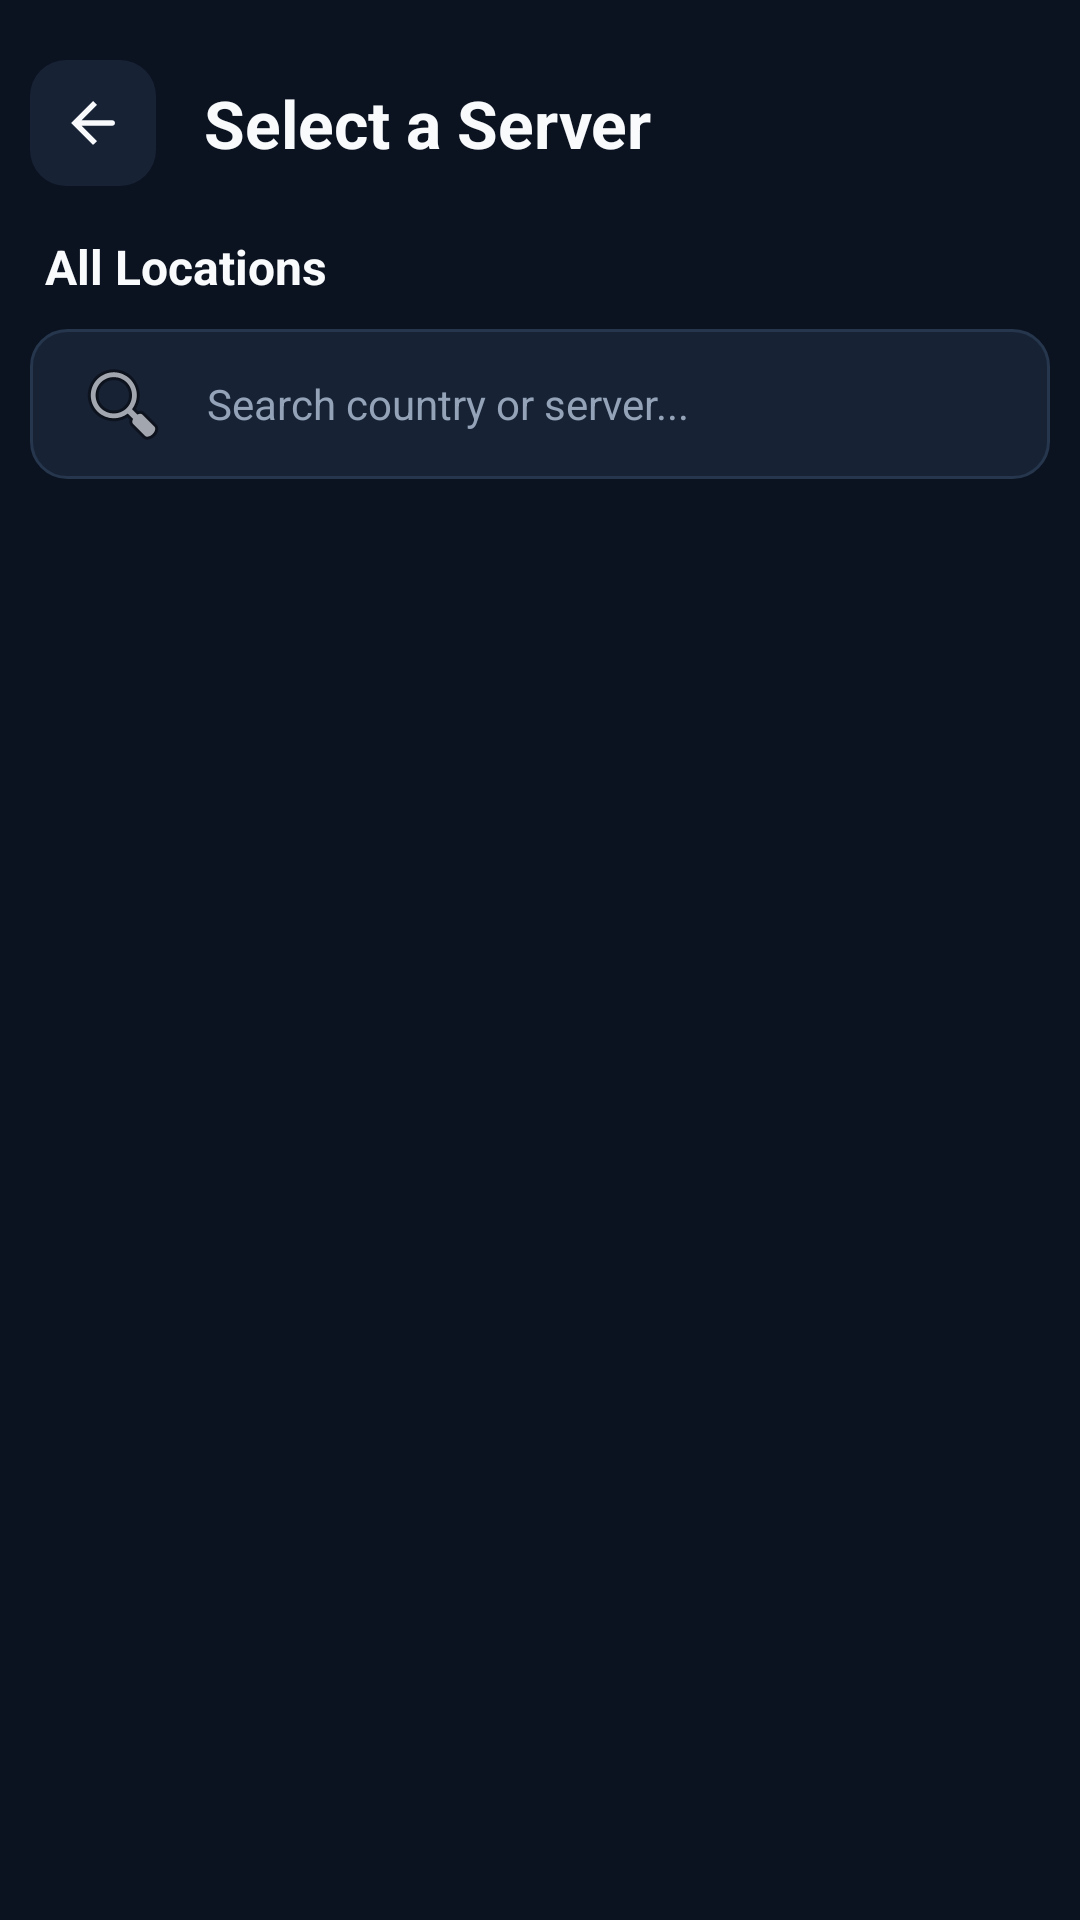

Where to tap for icons on this 1080 x 1920 app screen, as (x=x, y=y):
Back: (x=93, y=123)
